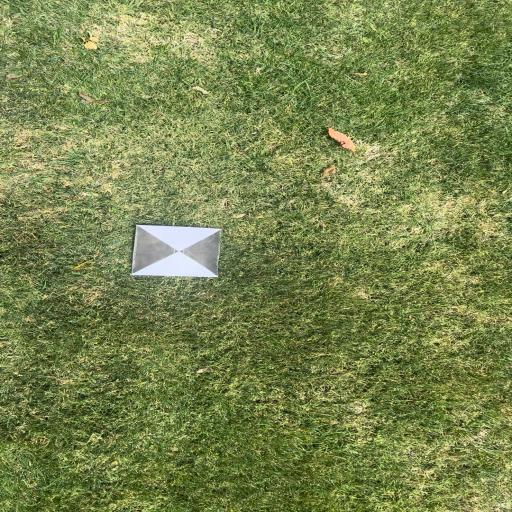target: (135, 226, 220, 276)
